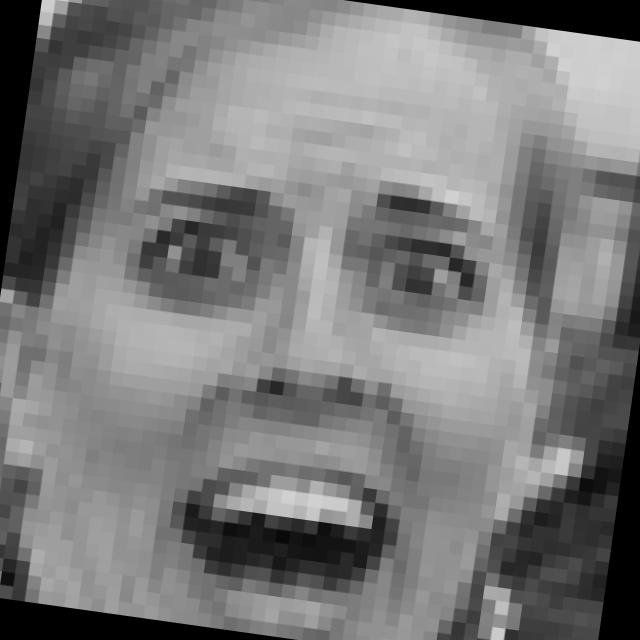fear: (47, 143, 506, 640)
